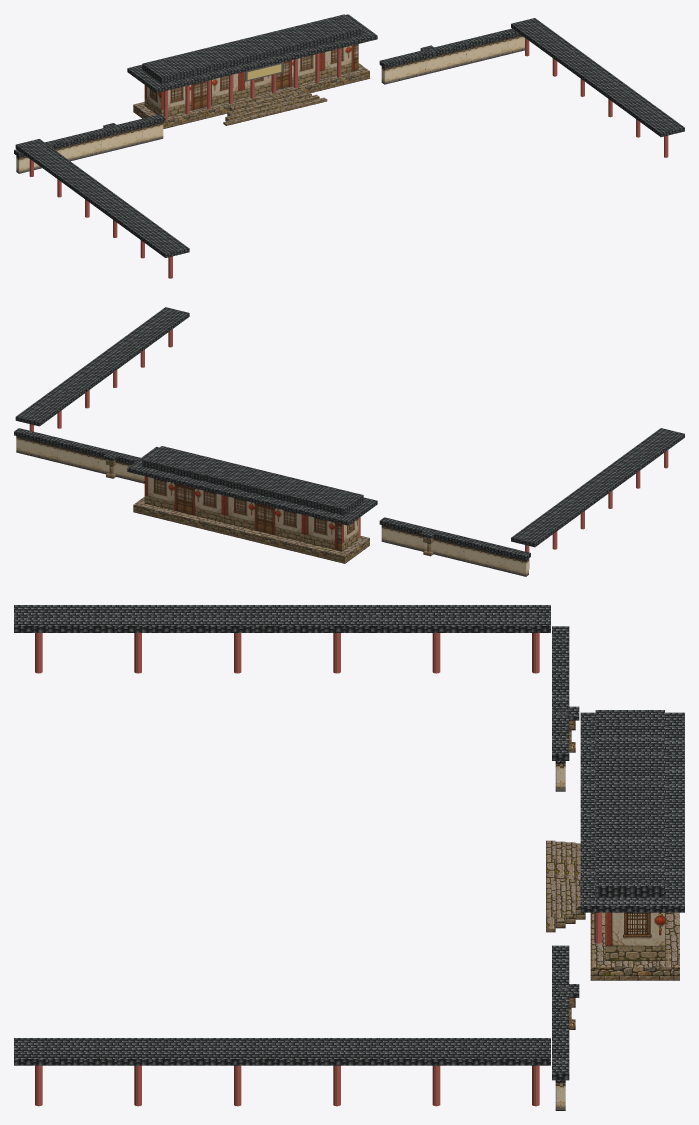
The model's file is st_court.glb.
The picture shows the model from 3 angles, top to bottom: view 1: azimuth 30°, elevation 25°; view 2: azimuth 150°, elevation 25°; view 3: azimuth 270°, elevation 25°; orthographic projection. The views are drawn at different scales.
Parts seen in each view (by area): view 1: roof, tile, wall, red, base, stop, btop, stone; view 2: roof, wall, tile, base, btop, red; view 3: roof, red, wall, stop, btop, base.
Boxes of the visible parts, left/top/right/bottom form: roof: left=14, top=14, right=684, bottom=257; tile: left=16, top=35, right=524, bottom=173; wall: left=144, top=44, right=358, bottom=116; red: left=29, top=38, right=668, bottom=278; base: left=133, top=71, right=369, bottom=128; stop: left=223, top=89, right=326, bottom=123; btop: left=133, top=63, right=369, bottom=120; stone: left=223, top=91, right=327, bottom=125; roof: left=14, top=307, right=684, bottom=560; wall: left=144, top=476, right=358, bottom=551; tile: left=16, top=436, right=528, bottom=576; base: left=133, top=505, right=369, bottom=563; btop: left=133, top=497, right=369, bottom=556; red: left=29, top=329, right=668, bottom=568; roof: left=14, top=605, right=684, bottom=1080; red: left=35, top=633, right=601, bottom=1106; wall: left=605, top=912, right=664, bottom=960; stop: left=546, top=840, right=580, bottom=928; btop: left=590, top=912, right=679, bottom=967; base: left=590, top=967, right=679, bottom=980.
Size of the model in its own units: 432 by 40 by 270.
Materials: 10 (7 with a texture image).
